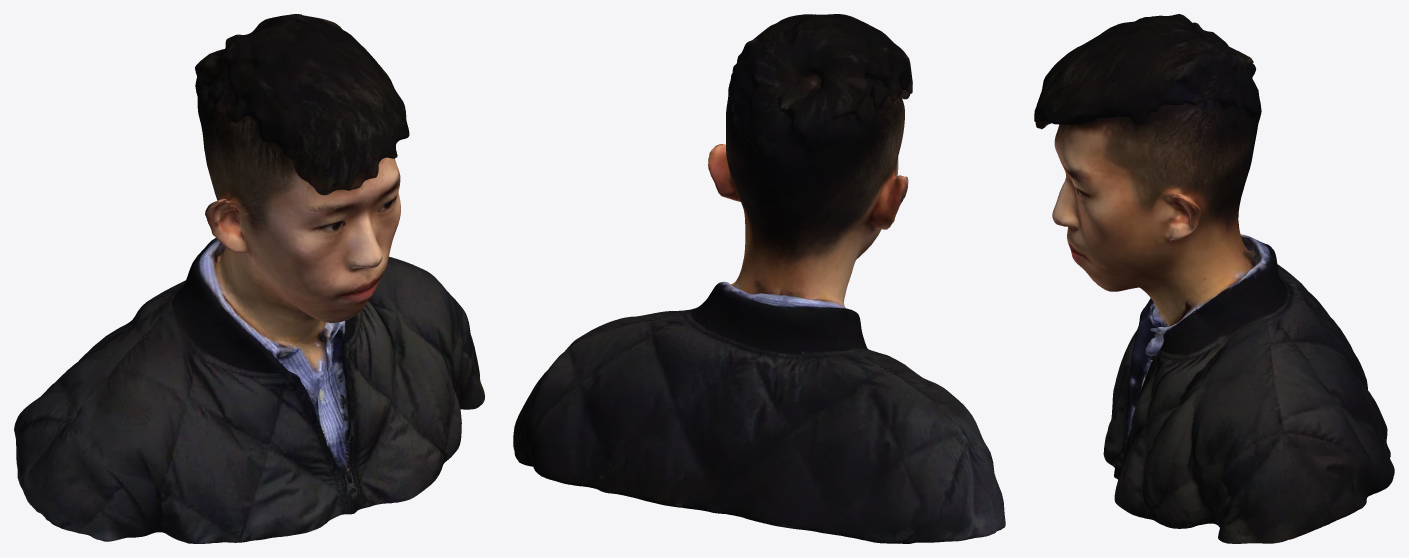
The model's file is 真人头像_男_戴贝雷帽男青年01_opt.glb.
The picture shows the model from 3 angles, left to right: view 1: azimuth 30°, elevation 25°; view 2: azimuth 150°, elevation 25°; view 3: azimuth 270°, elevation 25°; orthographic projection. The views are drawn at different scales.
Parts seen in each view (by area): view 1: material_0, material_0_1; view 2: material_0, material_0_1; view 3: material_0, material_0_1.
Part boxes in pixels (box(x1,y1,x2,y2)): material_0: box(14, 14, 484, 543); material_0_1: box(15, 15, 480, 543); material_0: box(513, 14, 1005, 543); material_0_1: box(516, 15, 998, 543); material_0: box(1034, 14, 1394, 543); material_0_1: box(1034, 16, 1394, 543).
Bounding box in the file's own units: 0.3078 × 0.3 × 0.2235.
1 material, 1 textured.
